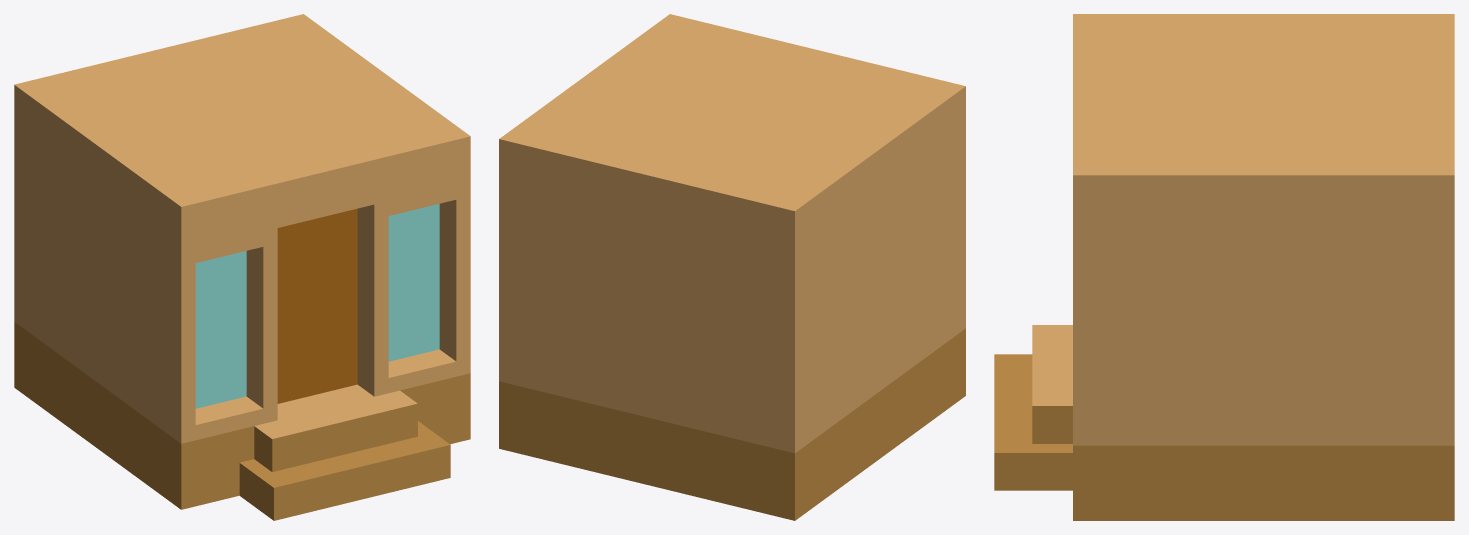
The model's file is buildingsbase1.fbx.
The picture shows the model from 3 angles, left to right: view 1: azimuth 30°, elevation 25°; view 2: azimuth 150°, elevation 25°; view 3: azimuth 270°, elevation 25°; orthographic projection. The views are drawn at different scales.
Visible parts, largest first — view 1: base2; view 2: base2; view 3: base2.
Part boxes in pixels (x1,y1,x2,y2): base2: (14,14,470,520); base2: (499,14,965,520); base2: (994,14,1454,520).
Bounding box in the file's own units: 100 × 100 × 121.
